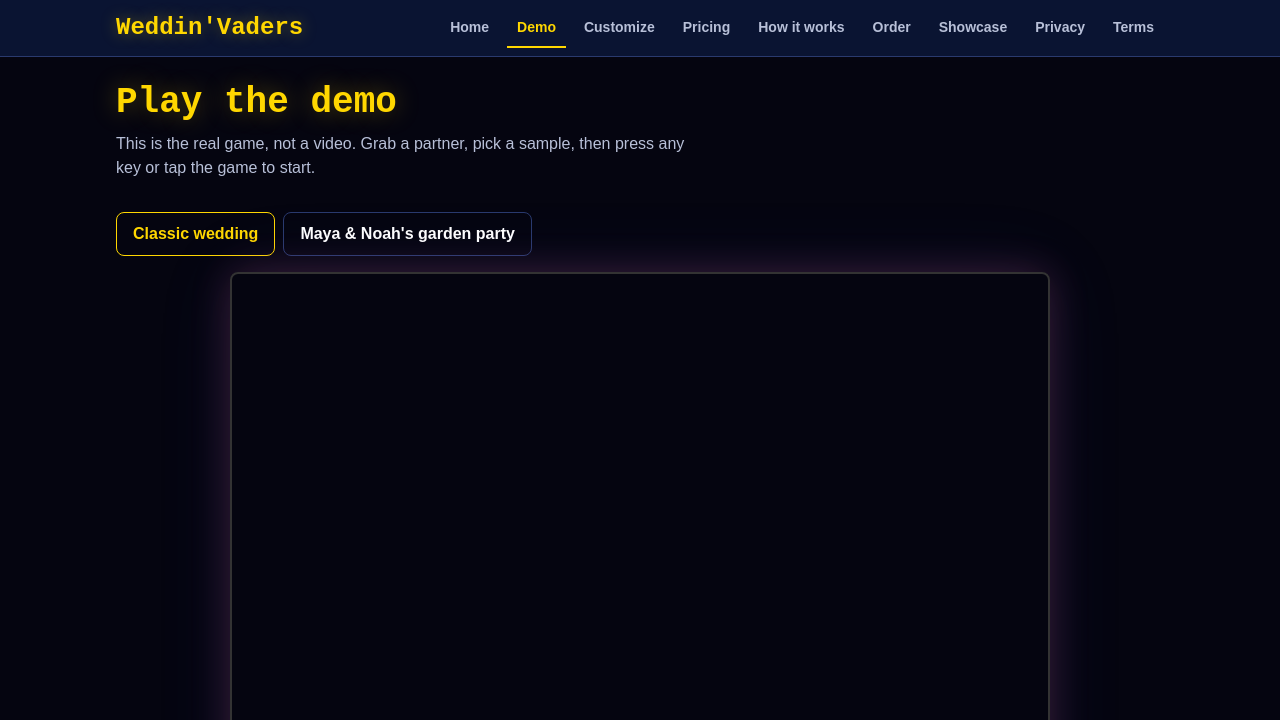
DemoPage: switching between the sample games › test_switch_to_sample
This screenshot has width=1280, height=720.
Click the link "Maya & Noah's garden party": (408, 234) [283,212,532,256]
(page scrolled)
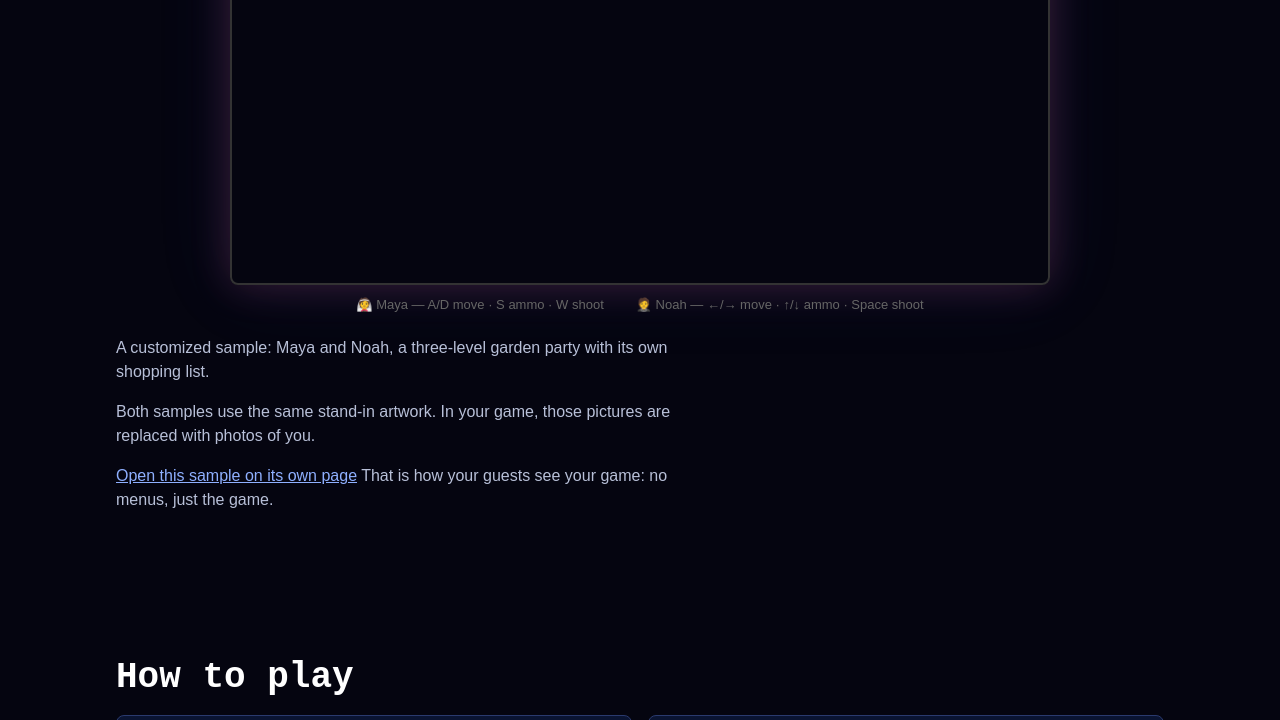
Expected: the text "👰 Maya — A/D move · S ammo · W shoot" is shown, [356,297,604,312]
Expected: the text "🤵 Noah — ←/→ move · ↑/↓ ammo · Space shoot" is shown, [636,297,924,312]
Expected: the text with test id "demo-sample-summary" shows "A customized sample: Maya and Noah, a three-level garden party with its own shopping list.", [116,339,667,380]
